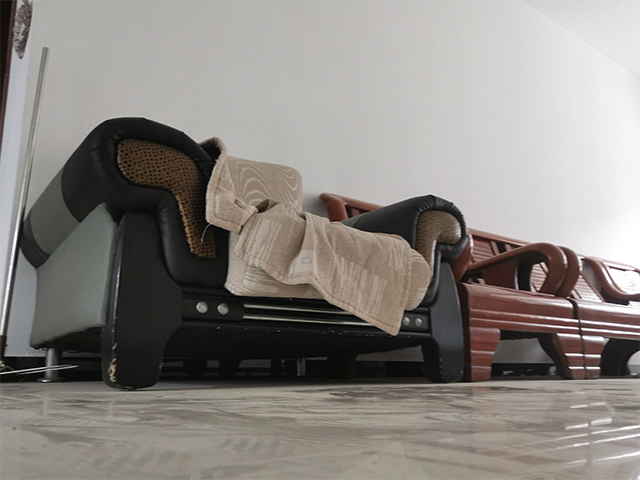sofa: (16, 111, 468, 391), (457, 223, 640, 378)
